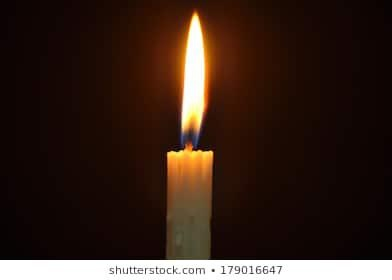fire: (178, 9, 207, 149)
